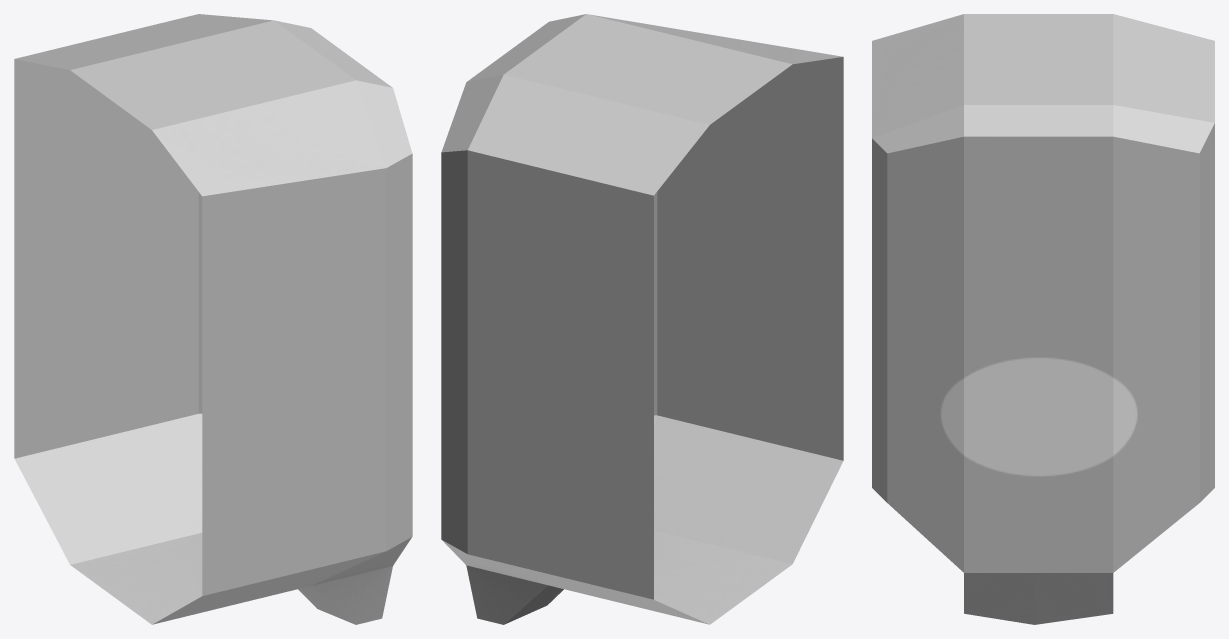
File: soap.obj
3 renders of one model, left to right at view 1: azimuth 30°, elevation 25°; view 2: azimuth 150°, elevation 25°; view 3: azimuth 270°, elevation 25°, orthographic. The views are drawn at different scales.
Visible parts, largest first — view 1: Cube_Cube.001; view 2: Cube_Cube.001; view 3: Cube_Cube.001.
Part boxes in pixels (x1,y1,x2,y2): Cube_Cube.001: (14,14,412,624); Cube_Cube.001: (441,14,843,624); Cube_Cube.001: (872,14,1214,624).
Size of the model in its own units: 0.4954 by 1.09 by 0.6681.
